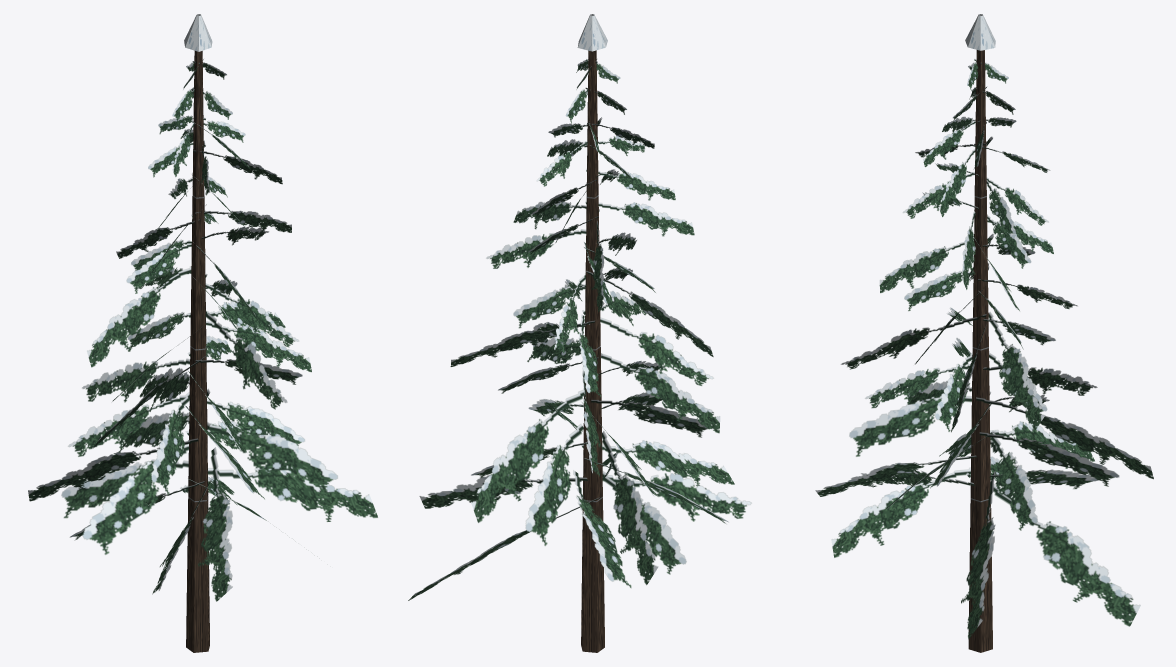
File: FrostedPine.glb
3 renders of one model, left to right at view 1: azimuth 30°, elevation 25°; view 2: azimuth 150°, elevation 25°; view 3: azimuth 270°, elevation 25°, orthographic.
Visible parts, largest first — view 1: FrostedPine; view 2: FrostedPine; view 3: FrostedPine.
Boxes of the visible parts, x1=… form: FrostedPine: x1=28, y1=14, x2=377, y2=652; FrostedPine: x1=408, y1=14, x2=751, y2=652; FrostedPine: x1=815, y1=14, x2=1153, y2=652.
Bounding box in the file's own units: 3.15 × 5.62 × 2.87.
Materials: 1 (1 with a texture image).
